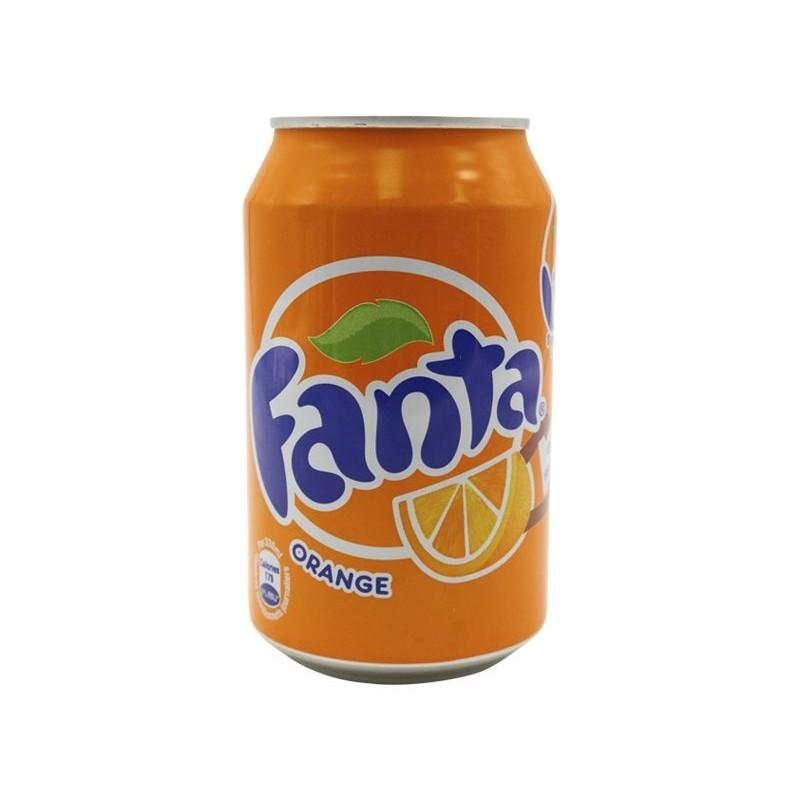metal: (245, 119, 556, 682)
